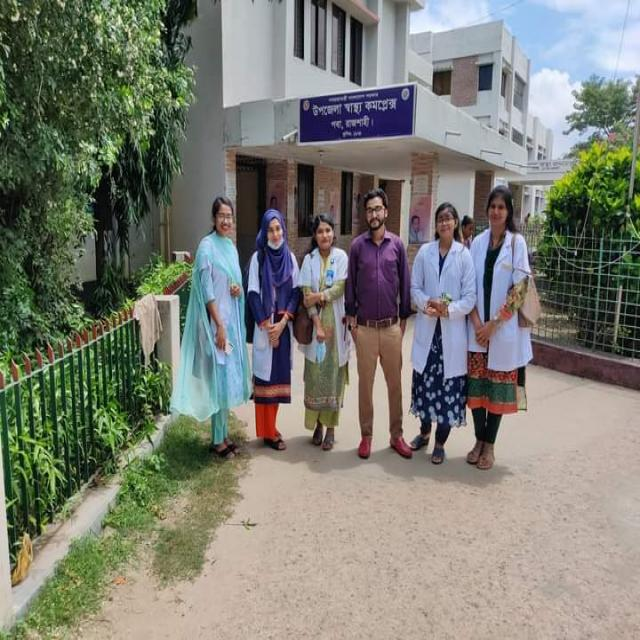female-dress: (172, 230, 255, 460), (473, 228, 537, 440), (410, 239, 476, 432), (294, 250, 353, 434), (248, 243, 301, 431)
male-dress: (347, 233, 415, 440)
